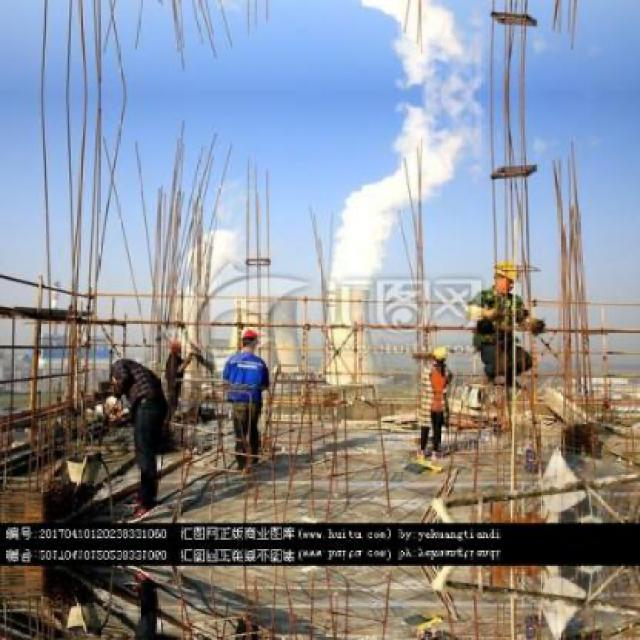helmet: (492, 259, 520, 296), (238, 330, 260, 356), (429, 342, 448, 366)
